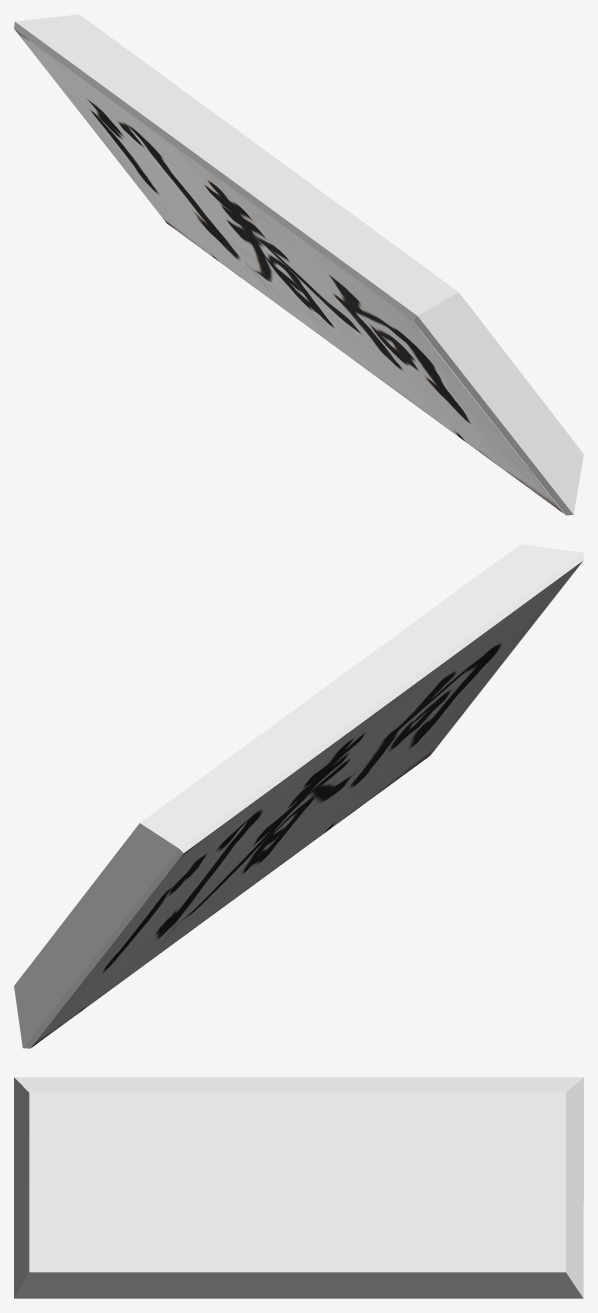
The model's file is SM_R_Sign_HC.fbx.
3 renders of one model, top to bottom at view 1: azimuth 30°, elevation 25°; view 2: azimuth 150°, elevation 25°; view 3: azimuth 270°, elevation 25°, orthographic. The views are drawn at different scales.
Visible parts, largest first — view 1: SM_R_Sign_HC; view 2: SM_R_Sign_HC; view 3: SM_R_Sign_HC.
Boxes of the visible parts, x1=… form: SM_R_Sign_HC: x1=14, y1=14, x2=583, y2=515; SM_R_Sign_HC: x1=14, y1=544, x2=583, y2=1048; SM_R_Sign_HC: x1=14, y1=1077, x2=583, y2=1298.
Bounding box in the file's own units: 25.24 × 97.85 × 32.3.
Materials: 1 (1 with a texture image).
